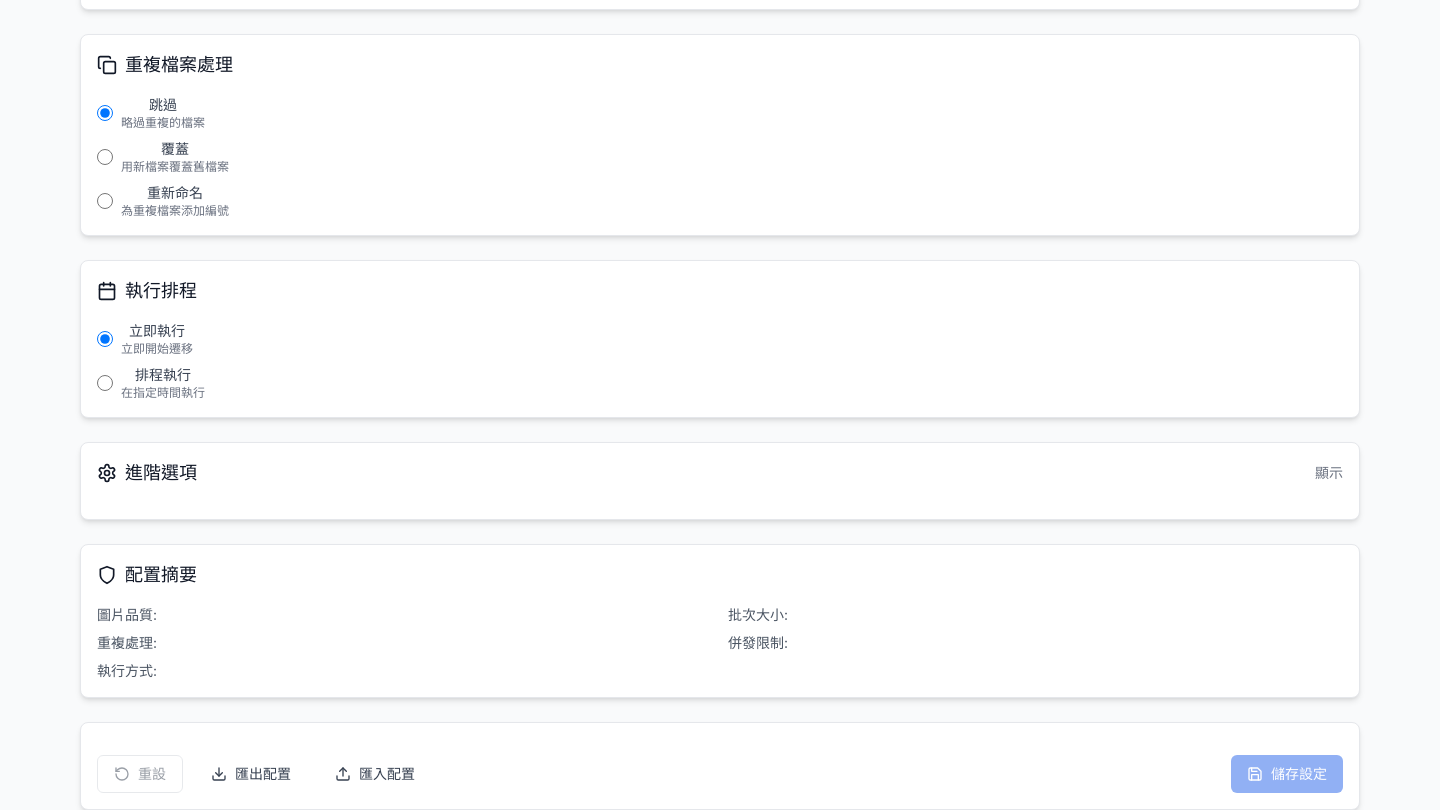
Test case: MigrationConfig - Basic Tests › should show/hide advanced options
(page scrolled)
Click the heading "進階選項 顯示": point(161, 472) [97,459,1343,487]
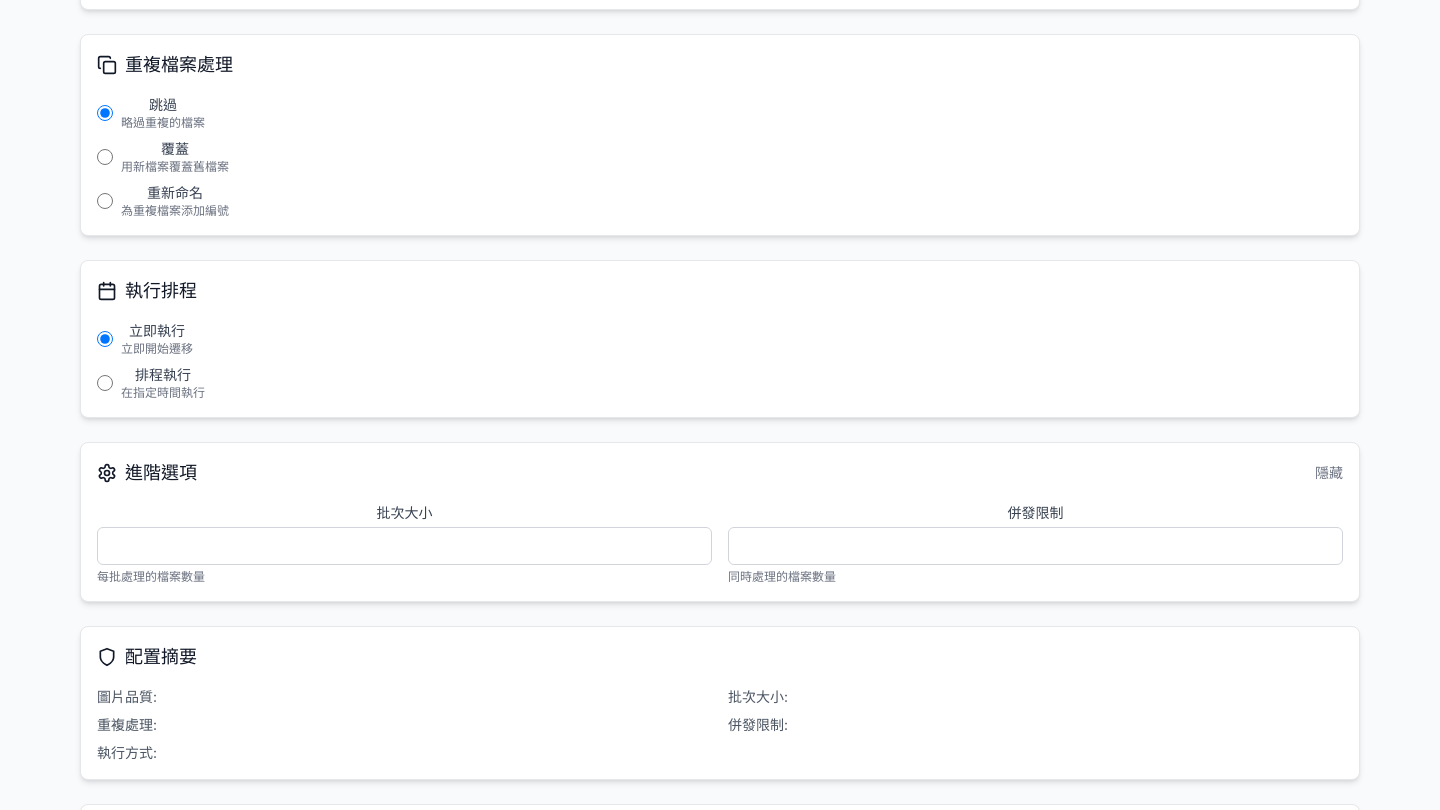
Check: the number field labelled "批次大小" is shown, box [97,527,712,565]
Check: the number field labelled "併發限制" is shown, box [728,527,1343,565]
